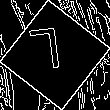L_S: (37, 28, 73, 82)
